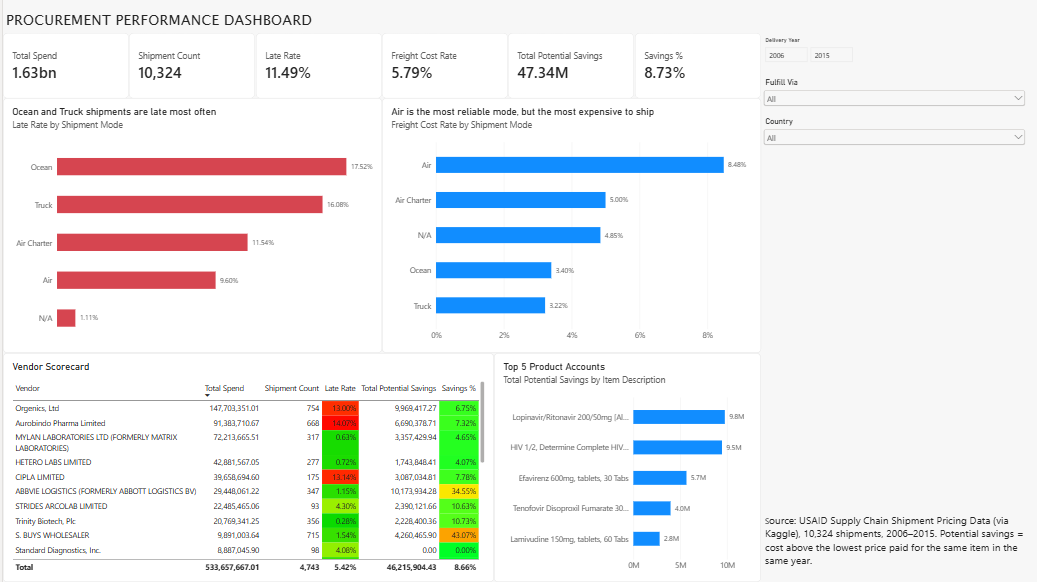

The dashboard page shown, as its layout file describes it:
{"tool":"powerbi","page":{"name":"Dashboard","canvas":[1920,1080],"ordinal":0},"visuals":[{"type":"cardVisual","fields":{"Data":["Shipments.Total Spend"]},"box":[0.8,61.1,233,121],"z":0,"group":"g1"},{"type":"cardVisual","fields":{"Data":["Shipments.Savings %"]},"box":[1169.8,61.1,233,121],"z":1000,"group":"g1"},{"type":"cardVisual","fields":{"Data":["Shipments.Total Potential Savings"]},"box":[935.9,61.1,233,121],"z":2000,"group":"g1"},{"type":"cardVisual","fields":{"Data":["Shipments.Late Rate"]},"box":[468.1,61.1,233,121],"z":3000,"group":"g1"},{"type":"cardVisual","fields":{"Data":["Shipments.Shipment Count"]},"box":[234.2,61.1,233,121],"z":4000,"group":"g1"},{"type":"cardVisual","fields":{"Data":["Shipments.Freight Cost Rate"]},"box":[702,61.1,233,121],"z":5000,"group":"g1"},{"type":"textbox","box":[6,16,621.4,51],"z":6000},{"type":"clusteredBarChart","title":"Ocean and Truck shipments are late most often","fields":{"Category":["Shipments.Shipment Mode"],"Y":["Shipments.Late Rate"]},"box":[0,182,701.7,471.5],"z":7000,"group":"g1"},{"type":"clusteredBarChart","title":"Air is the most reliable mode, but the most expensive to ship ","fields":{"Category":["Shipments.Shipment Mode"],"Y":["Shipments.Freight Cost Rate"]},"box":[701.7,182,701.7,471.5],"z":8000,"group":"g1"},{"type":"group","id":"g1","title":"Group 1","box":[0,61.1,1403.4,592.5],"z":8001},{"type":"tableEx","title":"Vendor Scorecard","fields":{"Values":["Shipments.Vendor","Shipments.Total Spend","Shipments.Shipment Count","Shipments.Late Rate","Shipments.Total Potential Savings","Shipments.Savings %"]},"box":[0,653.6,909.1,425.8],"z":8002},{"type":"clusteredBarChart","title":"Top 5 Product Accounts","fields":{"Category":["Shipments.Item Description"],"Y":["Shipments.Total Potential Savings"]},"box":[909.1,653.6,494.3,425.8],"z":8003},{"type":"slicer","fields":{"Values":["Shipments.Delivery Year"]},"box":[1403.4,68.5,494.3,59.2],"z":8004},{"type":"slicer","fields":{"Values":["Shipments.Fulfill Via"]},"box":[1403.4,144.4,494.3,72.2],"z":8005},{"type":"slicer","fields":{"Values":["Shipments.Country"]},"box":[1403.4,216.6,494.3,63],"z":8006},{"type":"textbox","box":[1410,950,486.9,105],"z":8007}]}

Visuals, with their boxes in screenshot pixels (x1, y1, x2, y2), scaled from the page's 1920x1080 canvas onto the 1037x582 screenshot:
cardVisual - Shipments.Total Spend: locate(0, 33, 126, 98)
cardVisual - Shipments.Savings %: locate(632, 33, 758, 98)
cardVisual - Shipments.Total Potential Savings: locate(505, 33, 631, 98)
cardVisual - Shipments.Late Rate: locate(253, 33, 379, 98)
cardVisual - Shipments.Shipment Count: locate(126, 33, 252, 98)
cardVisual - Shipments.Freight Cost Rate: locate(379, 33, 505, 98)
textbox: locate(3, 9, 339, 36)
"Ocean and Truck shipments are late most often" clusteredBarChart: locate(0, 98, 379, 352)
"Air is the most reliable mode, but the most expensive to ship " clusteredBarChart: locate(379, 98, 758, 352)
"Group 1" group: locate(0, 33, 758, 352)
"Vendor Scorecard" tableEx: locate(0, 352, 491, 581)
"Top 5 Product Accounts" clusteredBarChart: locate(491, 352, 758, 581)
slicer - Shipments.Delivery Year: locate(758, 37, 1025, 69)
slicer - Shipments.Fulfill Via: locate(758, 78, 1025, 117)
slicer - Shipments.Country: locate(758, 117, 1025, 151)
textbox: locate(762, 512, 1025, 569)
